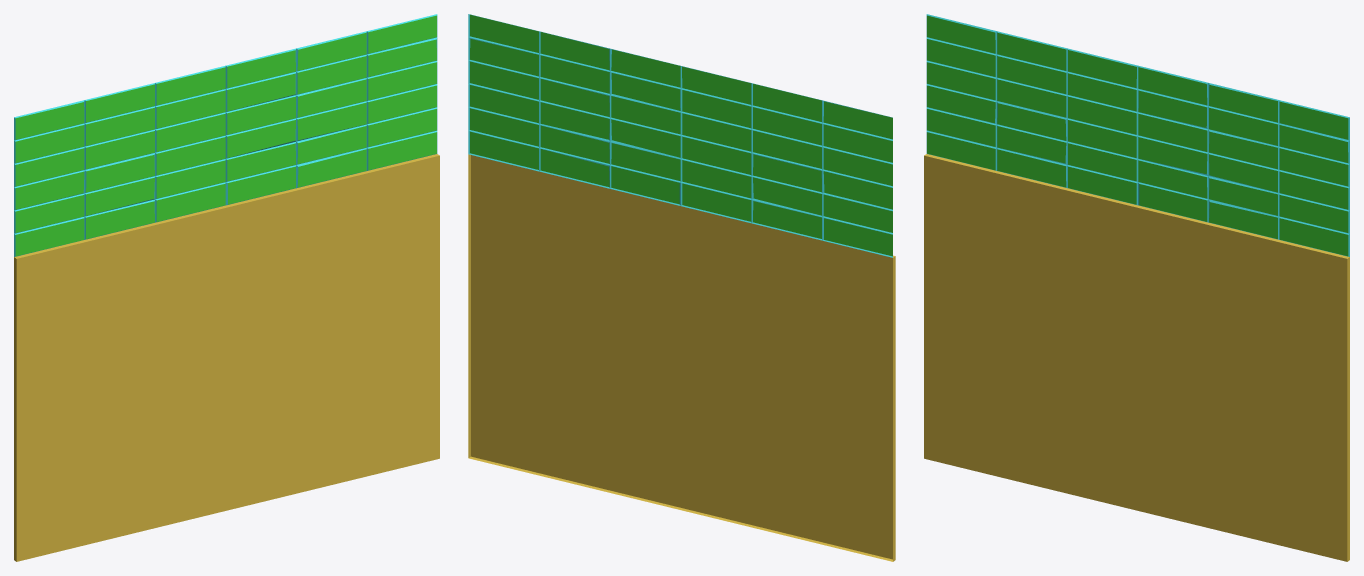
The model's file is Wall_41_B.fbx.
3 views of the same model, side by side, from view 1: azimuth 30°, elevation 25°; view 2: azimuth 150°, elevation 25°; view 3: azimuth 330°, elevation 25° (orthographic).
Visible parts, largest first — view 1: Wall_41_B; view 2: Wall_41_B; view 3: Wall_41_B.
Boxes of the visible parts, x1,y1,x2,y2 form: Wall_41_B: (14, 14, 439, 561); Wall_41_B: (468, 14, 895, 561); Wall_41_B: (924, 14, 1349, 561).
Size of the model in its own units: 457 by 457 by 4.57.
